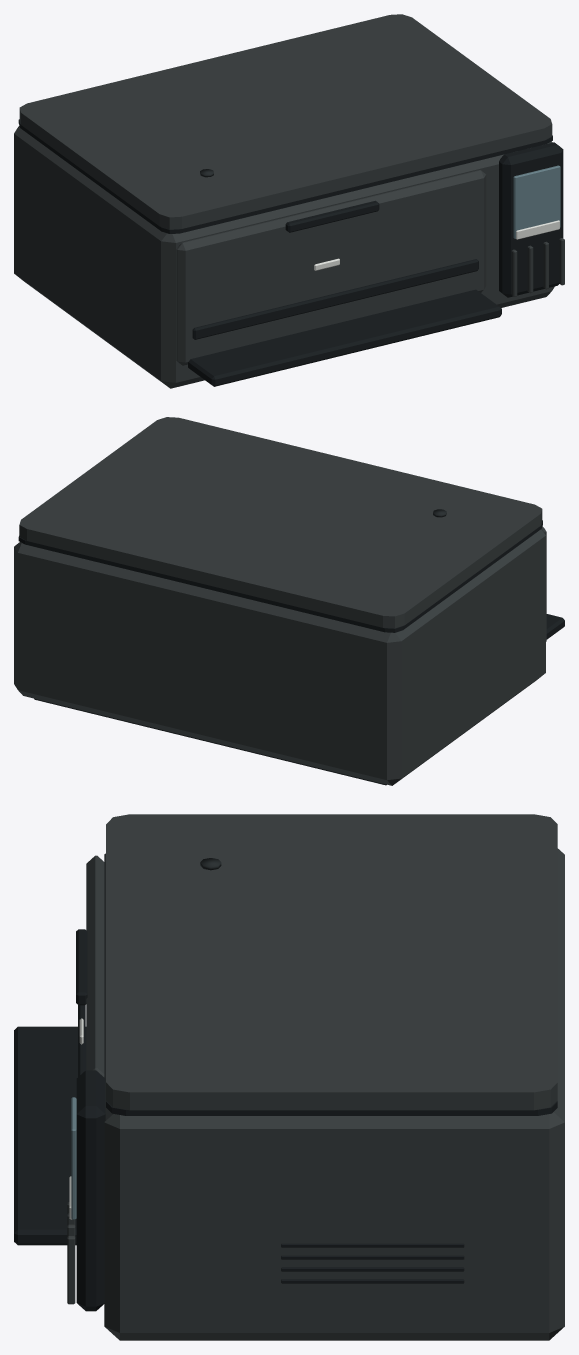
Rendered from lod2_source.glb.
3 renders of one model, top to bottom at view 1: azimuth 30°, elevation 25°; view 2: azimuth 150°, elevation 25°; view 3: azimuth 270°, elevation 25°, orthographic. The views are drawn at different scales.
Visible parts, largest first — view 1: Low rounded scanner lid, Front broad charcoal access door, Low wide charcoal printer body, Output tray lower rail, Right tall ink compartment rim, Horizontal paper exit slot, Muted blue grey ink window, Scanner lid fine seam, Front top pull edge; view 2: Low wide charcoal printer body, Low rounded scanner lid, Scanner lid fine seam, Bottom shadow plinth; view 3: Low rounded scanner lid, Low wide charcoal printer body, Output tray lower rail, Right tall ink compartment rim, Front broad charcoal access door, Scanner lid fine seam, Right side cooling slot 0, Right side cooling slot 1, Right side cooling slot 2, Right side cooling slot 3, Front top pull edge, Muted blue grey ink window.
Part boxes in pixels (x1,y1,x2,y2): Low rounded scanner lid: [19, 14, 552, 229]; Front broad charcoal access door: [176, 170, 486, 365]; Low wide charcoal printer body: [14, 126, 554, 388]; Output tray lower rail: [188, 289, 501, 386]; Right tall ink compartment rim: [499, 142, 563, 297]; Horizontal paper exit slot: [192, 259, 478, 339]; Muted blue grey ink window: [513, 165, 560, 238]; Scanner lid fine seam: [18, 119, 552, 233]; Front top pull edge: [285, 200, 379, 232]; Low wide charcoal printer body: [14, 529, 545, 785]; Low rounded scanner lid: [19, 417, 542, 628]; Scanner lid fine seam: [18, 520, 542, 632]; Bottom shadow plinth: [34, 698, 386, 785]; Low rounded scanner lid: [106, 814, 557, 1110]; Low wide charcoal printer body: [104, 848, 564, 1340]; Output tray lower rail: [14, 1026, 86, 1245]; Right tall ink compartment rim: [76, 1070, 105, 1311]; Front broad charcoal access door: [86, 855, 104, 1077]; Scanner lid fine seam: [106, 1100, 557, 1115]; Right side cooling slot 0: [281, 1279, 464, 1283]; Right side cooling slot 1: [281, 1267, 464, 1271]; Right side cooling slot 2: [281, 1255, 464, 1259]; Right side cooling slot 3: [281, 1243, 464, 1247]; Front top pull edge: [76, 929, 87, 1005]; Muted blue grey ink window: [71, 1097, 76, 1219].
Bounding box in the file's own units: 0.5065 × 0.2235 × 0.4185.
